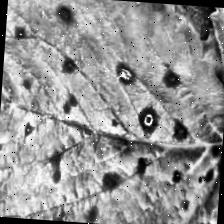Leaf Spot: (0, 0, 224, 224), (144, 141, 222, 224), (189, 6, 224, 148)
